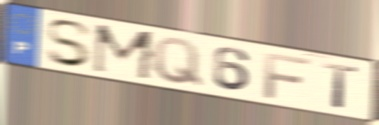6: (213, 46, 252, 93)
F: (262, 50, 313, 101)
M: (90, 22, 159, 84)
Q: (151, 36, 205, 89)
S: (44, 18, 96, 69)
T: (322, 60, 361, 111)
